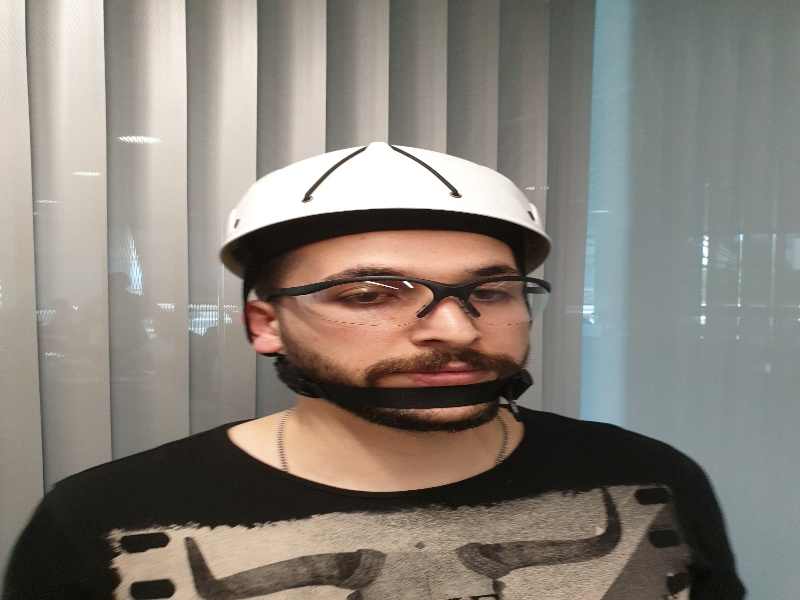Baret: (223, 143, 552, 252)
Gozluk: (259, 278, 550, 329)
